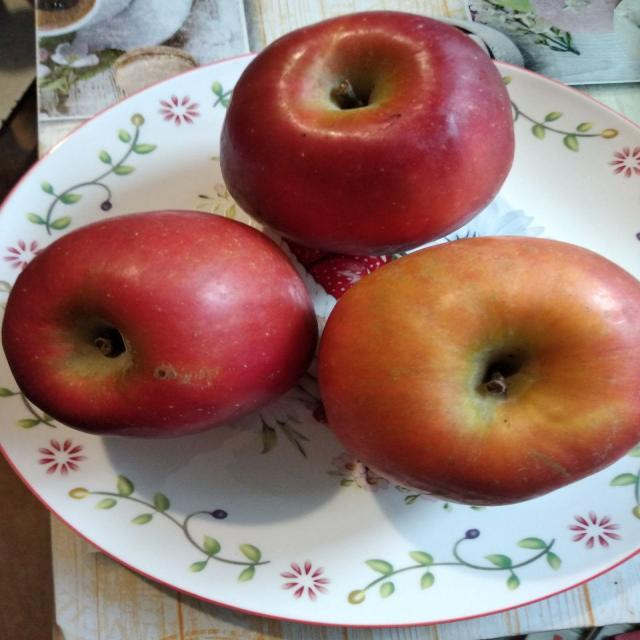Fresh Apple: (336, 253, 640, 518), (10, 207, 308, 443), (222, 30, 558, 235)
